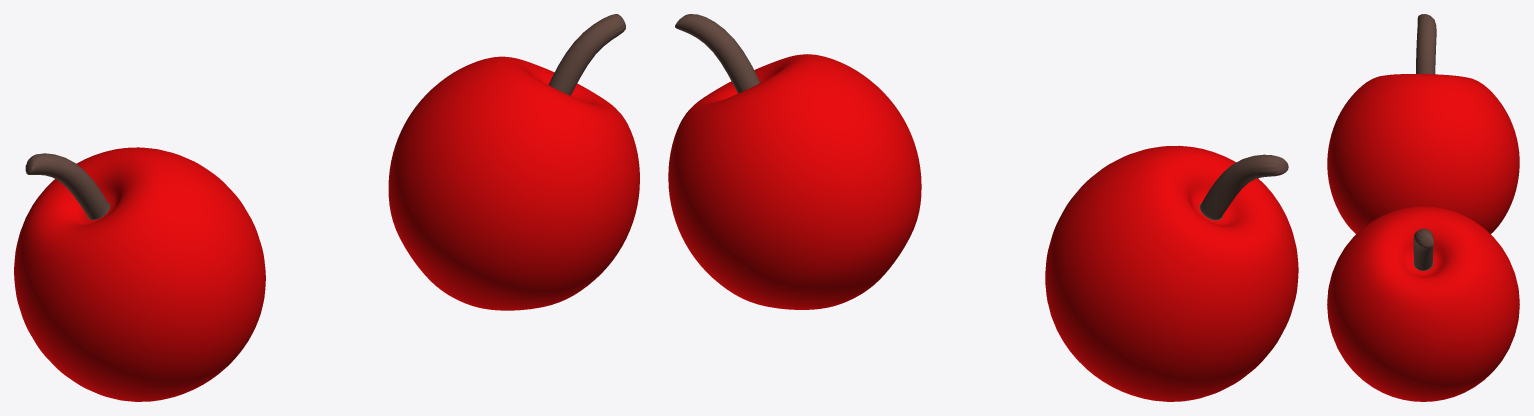
The model's file is Apple_ACC.fbx.
3 renders of one model, left to right at view 1: azimuth 30°, elevation 25°; view 2: azimuth 150°, elevation 25°; view 3: azimuth 270°, elevation 25°, orthographic. The views are drawn at different scales.
Visible parts, largest first — view 1: Sphere, Sphere.001; view 2: Sphere, Sphere.001; view 3: Sphere, Sphere.001.
Part boxes in pixels (<box>): Sphere: <box>388,14,639,310</box>; Sphere.001: <box>14,147,265,401</box>; Sphere: <box>668,14,921,309</box>; Sphere.001: <box>1045,145,1298,401</box>; Sphere: <box>1327,206,1519,401</box>; Sphere.001: <box>1327,14,1519,233</box>.
Bounding box in the file's own units: 12032 × 4923 × 4327.
